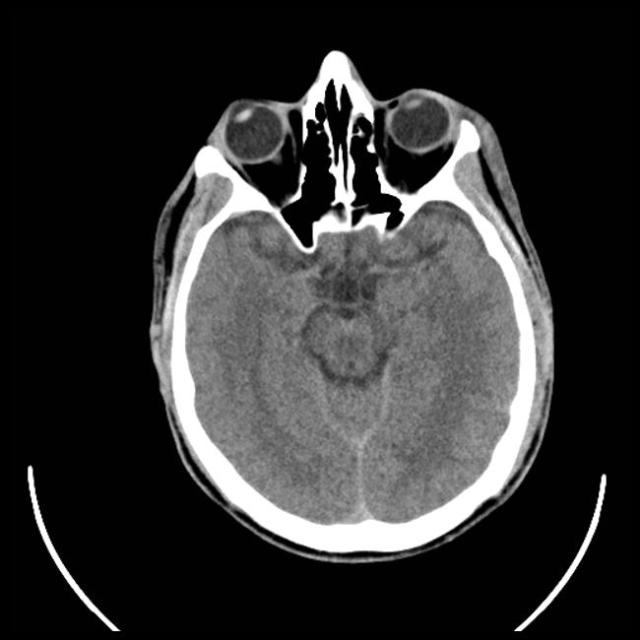lesion: (146, 48, 558, 561)
